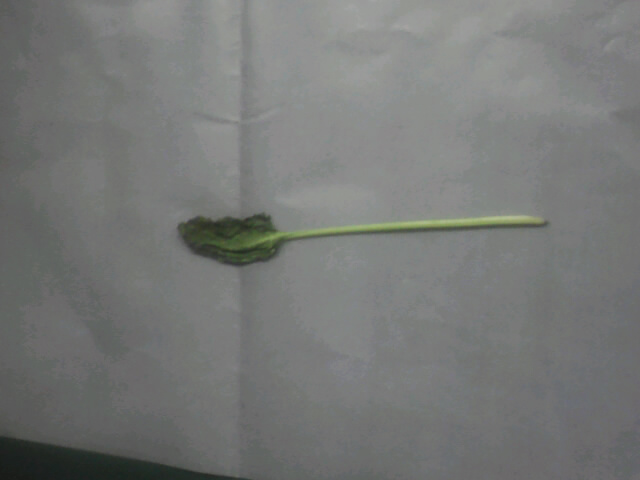yellow: (174, 192, 549, 271)
